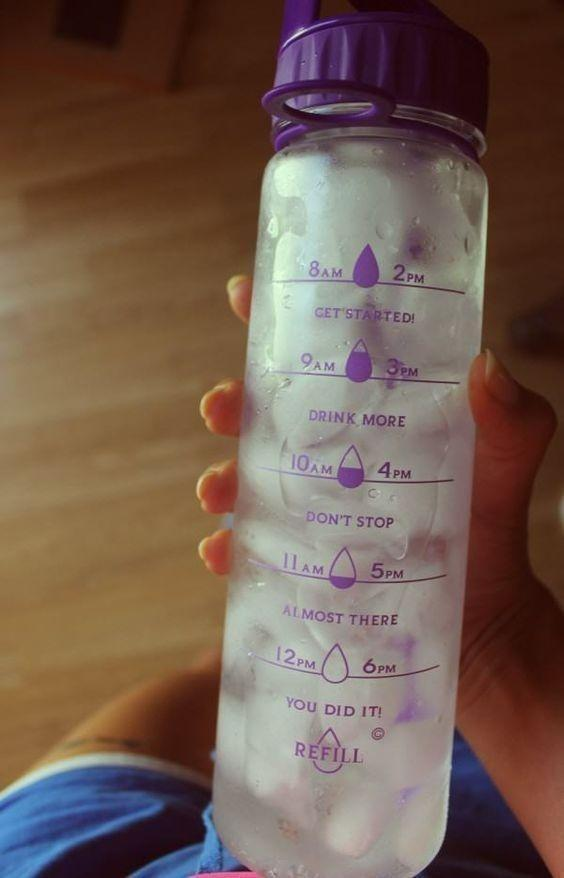gym bottle: (205, 1, 496, 876)
